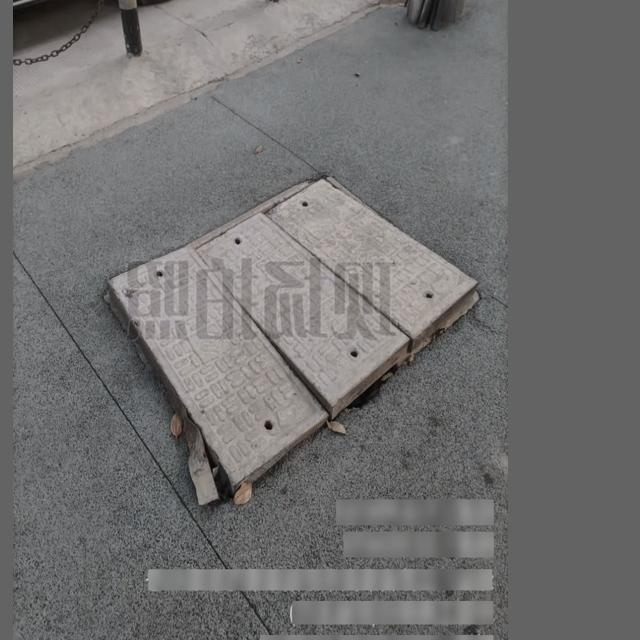uncovered: (109, 171, 479, 489)
